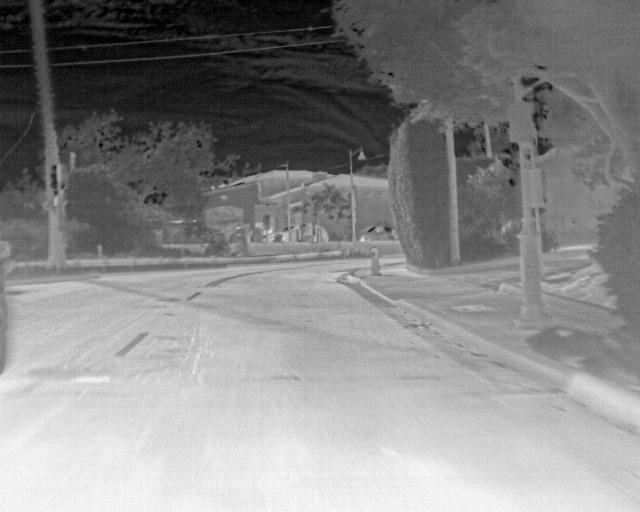car: (355, 224, 397, 242), (268, 226, 288, 245)
